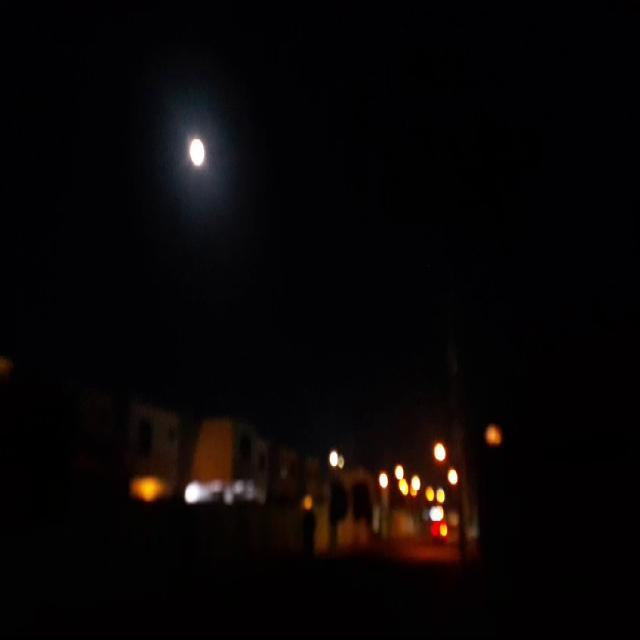moon: (190, 154, 210, 188)
